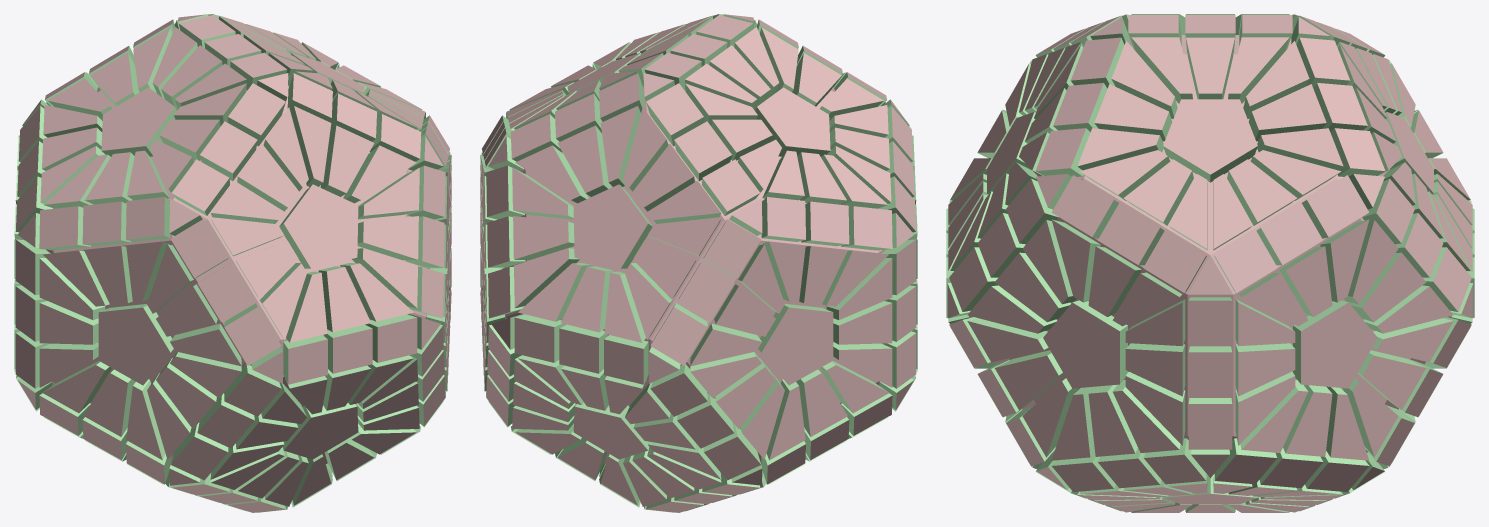
Rendered from geo_star.fbx.
The picture shows the model from 3 angles, left to right: view 1: azimuth 30°, elevation 25°; view 2: azimuth 150°, elevation 25°; view 3: azimuth 270°, elevation 25°; orthographic projection. The views are drawn at different scales.
Visible parts, largest first — view 1: geostar; view 2: geostar; view 3: geostar.
Boxes of the visible parts, bbox=[...] form: geostar: bbox=[14, 14, 451, 512]; geostar: bbox=[480, 14, 917, 512]; geostar: bbox=[946, 14, 1474, 512].
Bounding box in the file's own units: 1.77 × 1.77 × 1.77.
